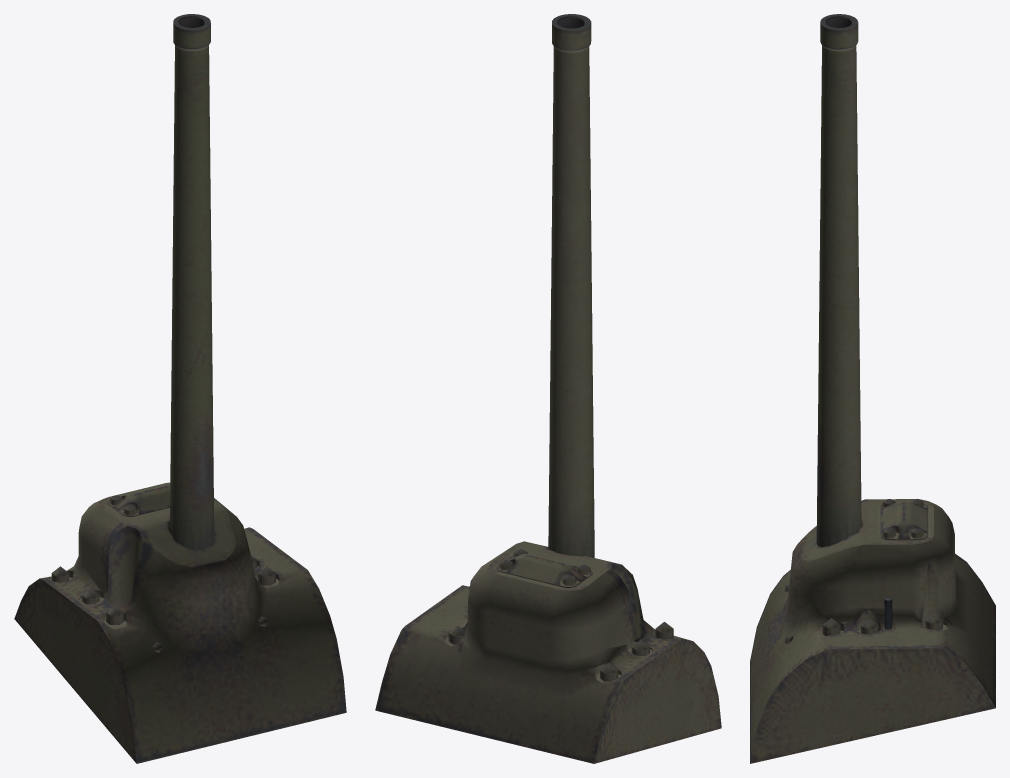
File: Gun_01.glb
3 views of the same model, side by side, from view 1: azimuth 30°, elevation 25°; view 2: azimuth 150°, elevation 25°; view 3: azimuth 270°, elevation 25° (orthographic). The views are drawn at different scales.
Visible parts, largest first — view 1: set_0_group_0; view 2: set_0_group_0; view 3: set_0_group_0.
Boxes of the visible parts, x1,y1,x2,y2 form: set_0_group_0: (14, 14, 346, 763); set_0_group_0: (375, 14, 721, 763); set_0_group_0: (750, 14, 995, 763).
Size of the model in its own units: 0.7124 by 2.22 by 0.7178.
Materials: 1 (1 with a texture image).
